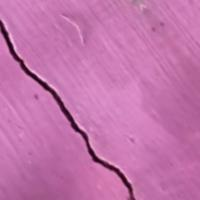crack: (0, 19, 138, 199)
